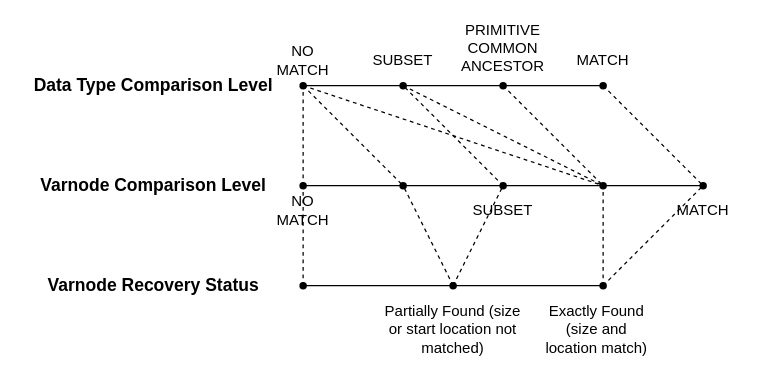
The diagram is 761 pixels wide and 383 high, and some of its shapes have lost their labels. The shapes that lost their labels are listed below. From the top down, each one's centre as x and y in pixels, then its label:
At pixel 402 185: "OVERLAP".
At pixel 602 185: "ALIGNED".
At pixel 302 285: "Not Found".
